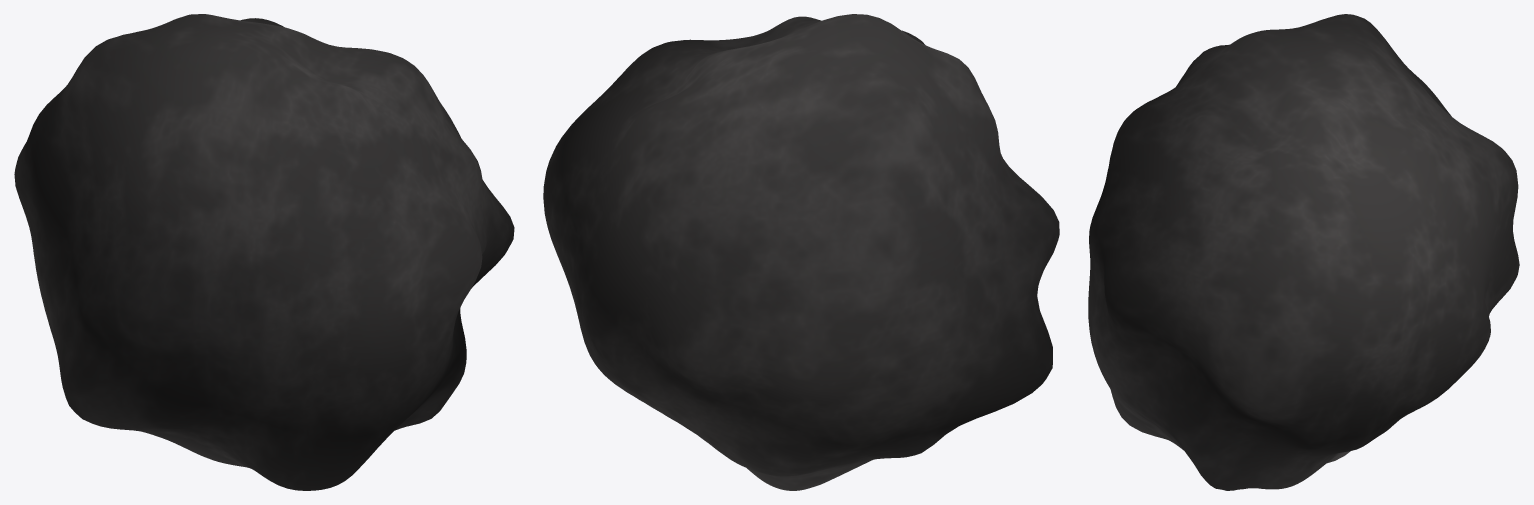
The model's file is asteroid-pebble.glb.
3 views of the same model, side by side, from view 1: azimuth 30°, elevation 25°; view 2: azimuth 150°, elevation 25°; view 3: azimuth 270°, elevation 25° (orthographic). The views are drawn at different scales.
Parts seen in each view (by area): view 1: asteroid_2001; view 2: asteroid_2001; view 3: asteroid_2001.
Part boxes in pixels (x1,y1,x2,y2): asteroid_2001: (14,14,514,490); asteroid_2001: (543,14,1059,490); asteroid_2001: (1088,14,1519,490).
Size of the model in its own units: 26.67 by 24.68 by 23.65.
1 material, 1 textured.
